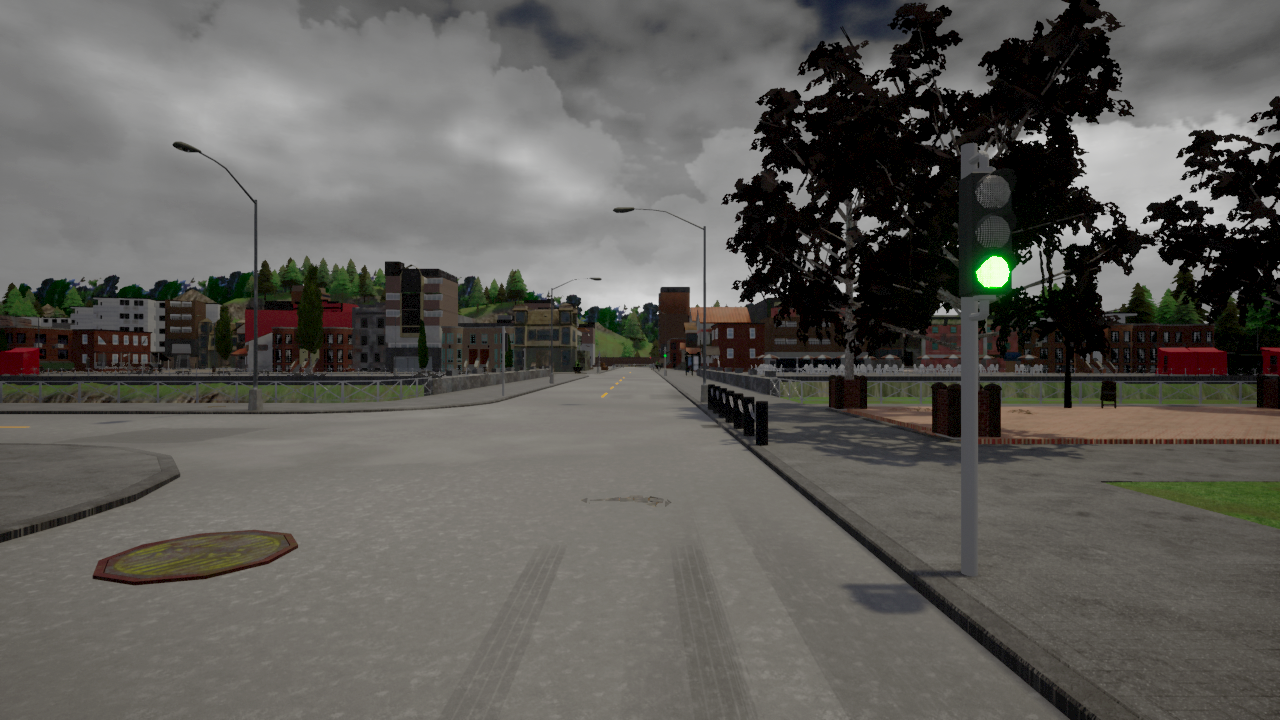green: (957, 167, 1012, 294)
